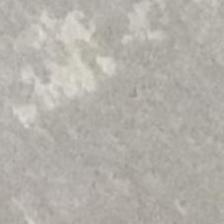Non_Crack: (32, 33, 223, 204)
